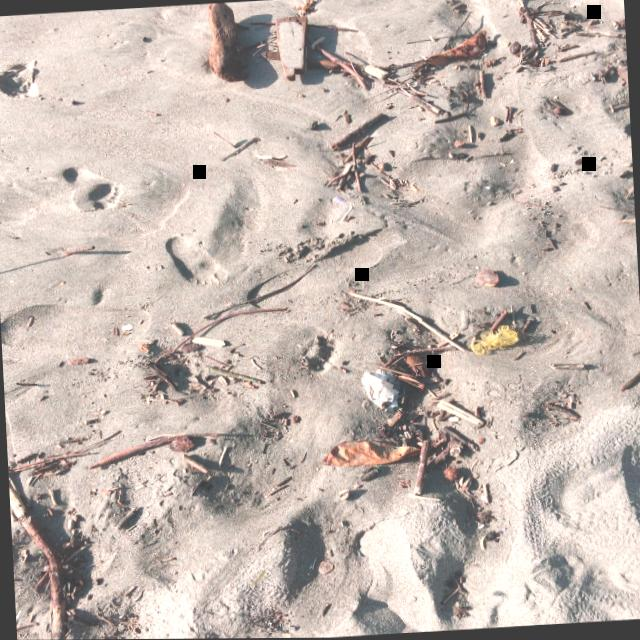Normal paper: (361, 370, 398, 412)
Other plastic bottle: (331, 197, 346, 205)
Rope - strings: (466, 326, 518, 356)
